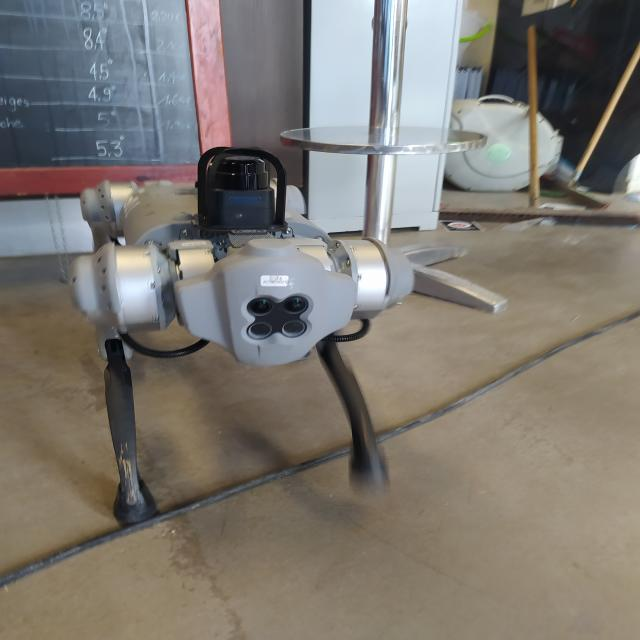unitree-go1-robot: (69, 142, 440, 539)
